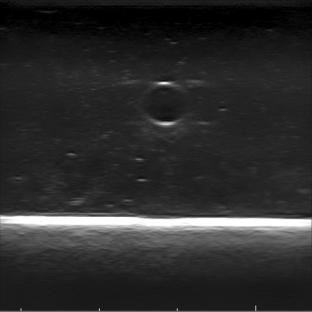vessel: (138, 79, 190, 128)
